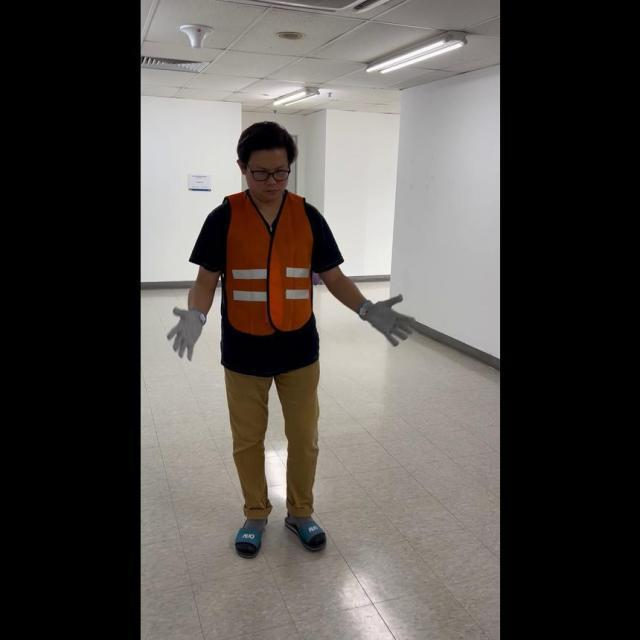gloved_hand: (353, 289, 415, 345), (165, 301, 208, 360)
